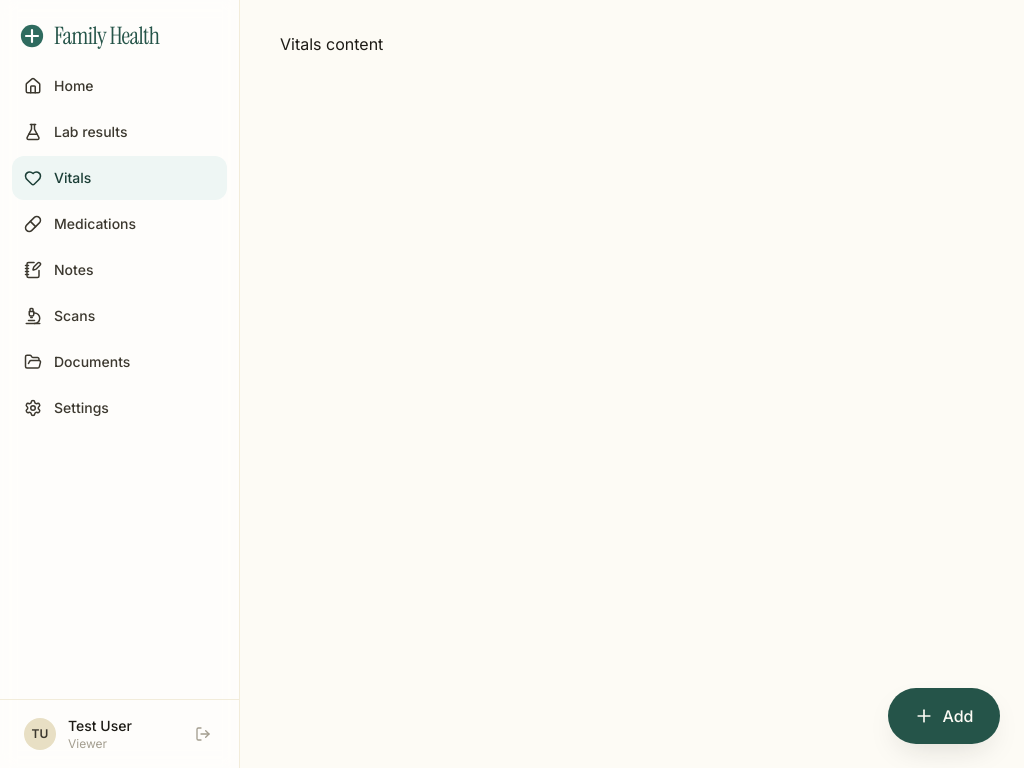
Test case: Layout — FloatingAddFab › clicking a FAB action opens QuickAddModal with the correct kind
Expected: the text "Vitals content" is shown, [280,34,383,54]
// Open the FAB menu
Click the button with aria-label "quick add": (944, 716) [888,688,1000,744]
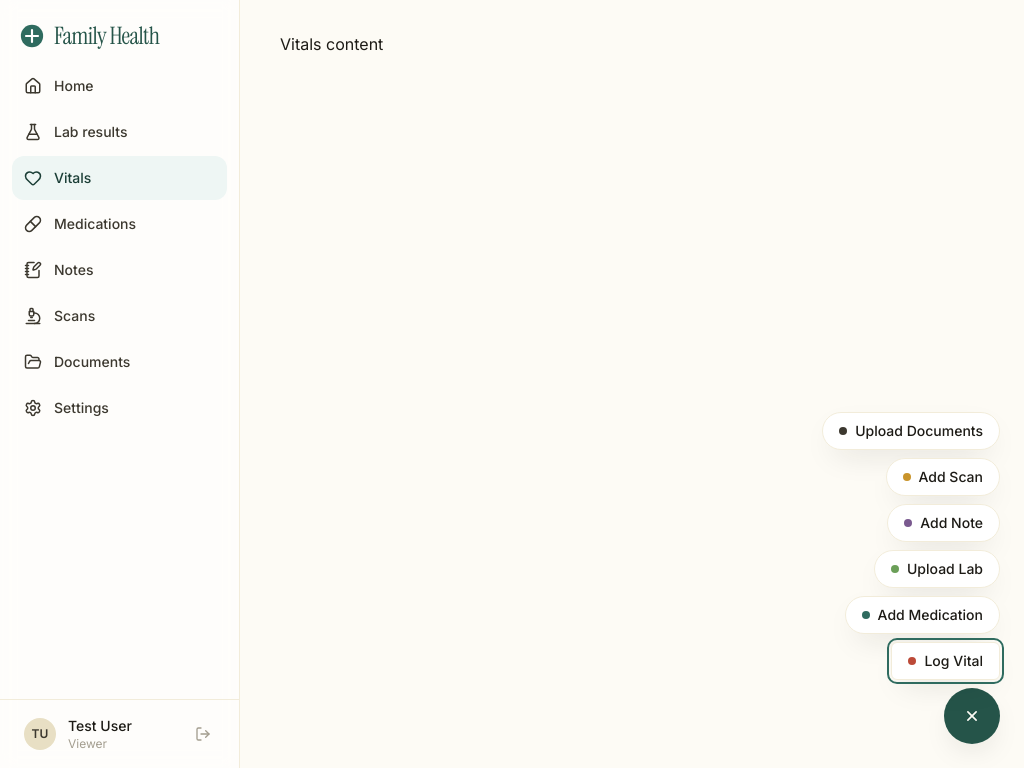
// Click "Log Vital" pill
Click the button "Log Vital": (946, 661) [892,642,1000,680]
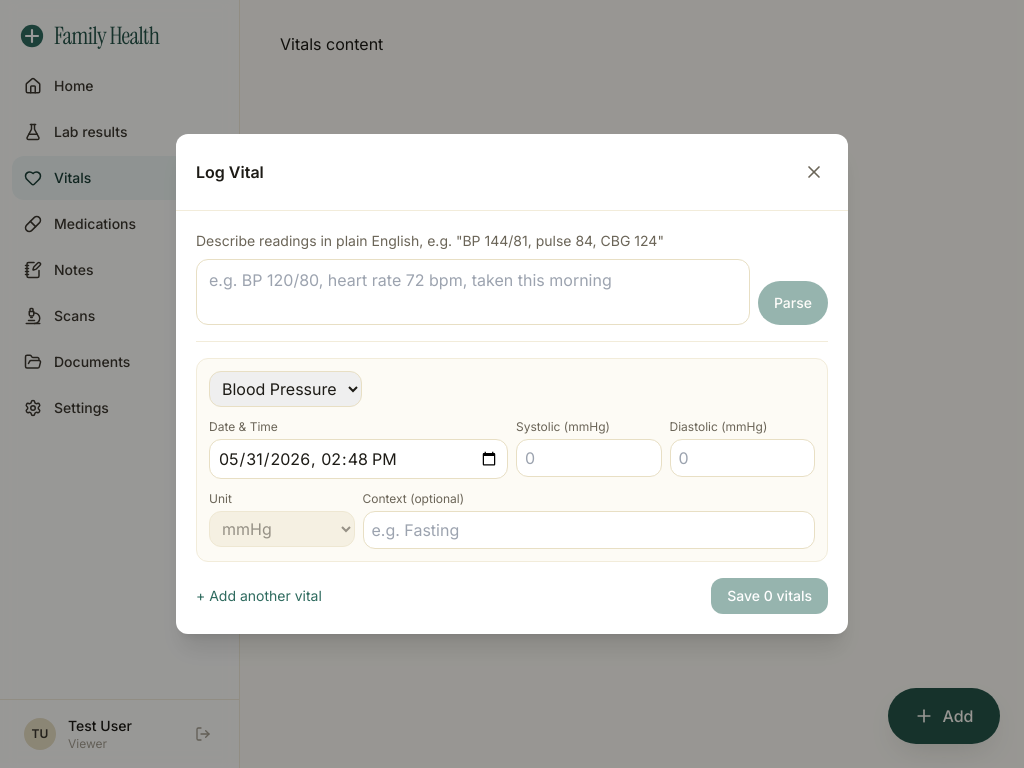
Now the dialog "Log Vital" is shown
